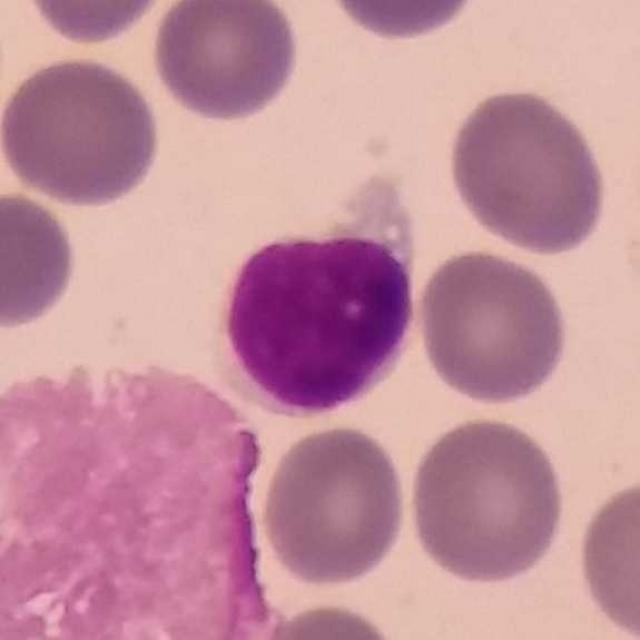Lymphocyte: (205, 166, 422, 419)
RBC: (442, 84, 613, 258), (404, 412, 570, 589), (256, 421, 411, 591), (414, 245, 572, 409), (0, 52, 164, 210), (147, 0, 304, 125), (0, 187, 81, 333), (572, 472, 640, 640), (18, 0, 175, 48), (320, 0, 487, 45), (247, 597, 408, 640)
